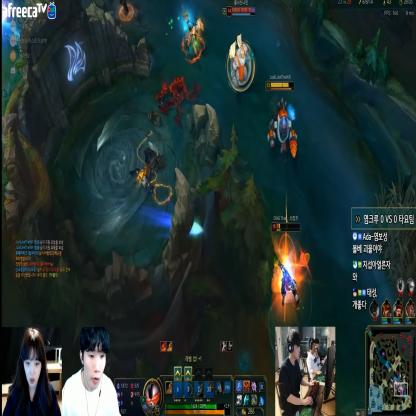streamer: (61, 326, 121, 416), (2, 326, 61, 416), (278, 328, 317, 412), (306, 336, 324, 380), (314, 337, 327, 365)
